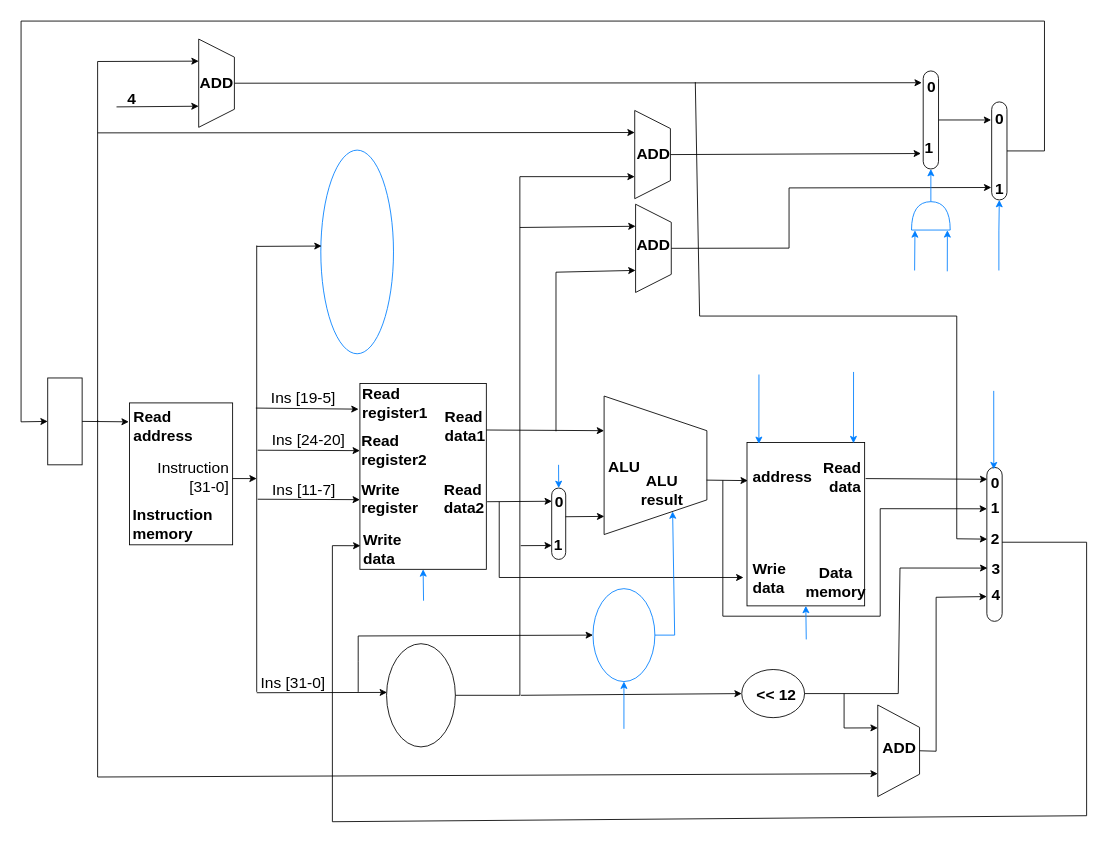
The diagram is 1109 pixels wide and 844 high, and some of its shapes have lost their labels. Each missing label, with the centre of its shape:
Imm Gen: [420,695]
Ins [6-0]: [356,251]
PC: [64,421]
